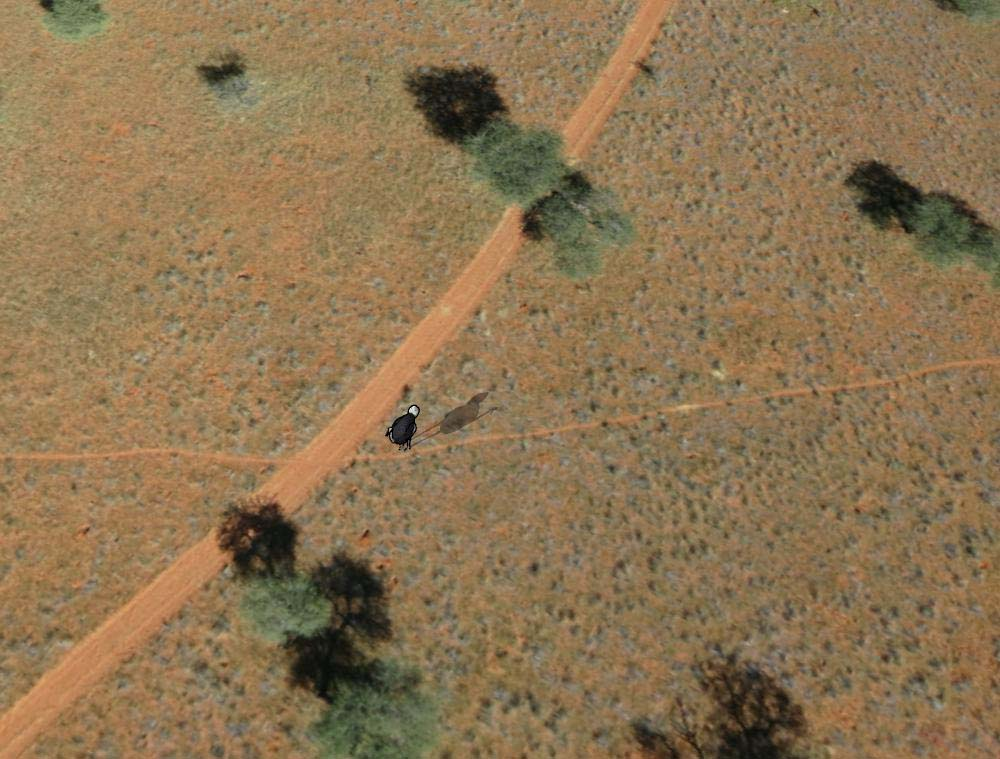ostrich: (379, 400, 426, 452)
